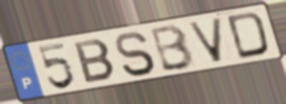5: (36, 40, 78, 91)
B: (149, 23, 197, 74), (71, 38, 118, 86)
D: (225, 10, 272, 61)
S: (113, 30, 158, 79)
V: (186, 16, 225, 65)
